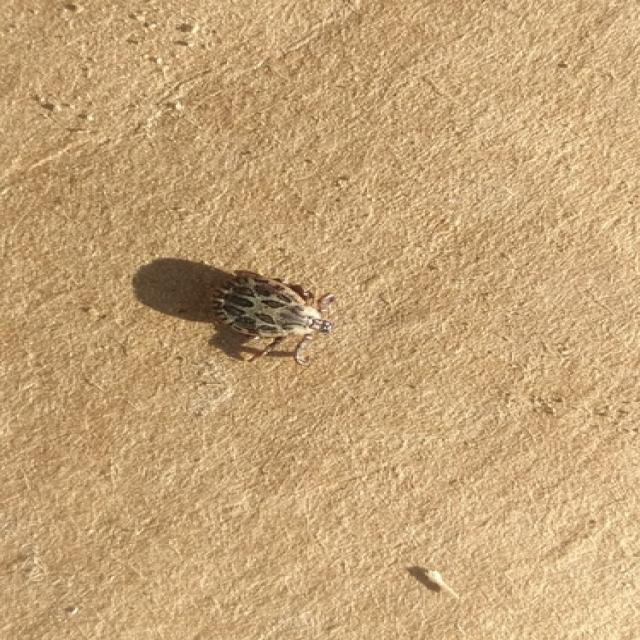Dermacentor Reticulatus-M: (210, 270, 335, 364)
